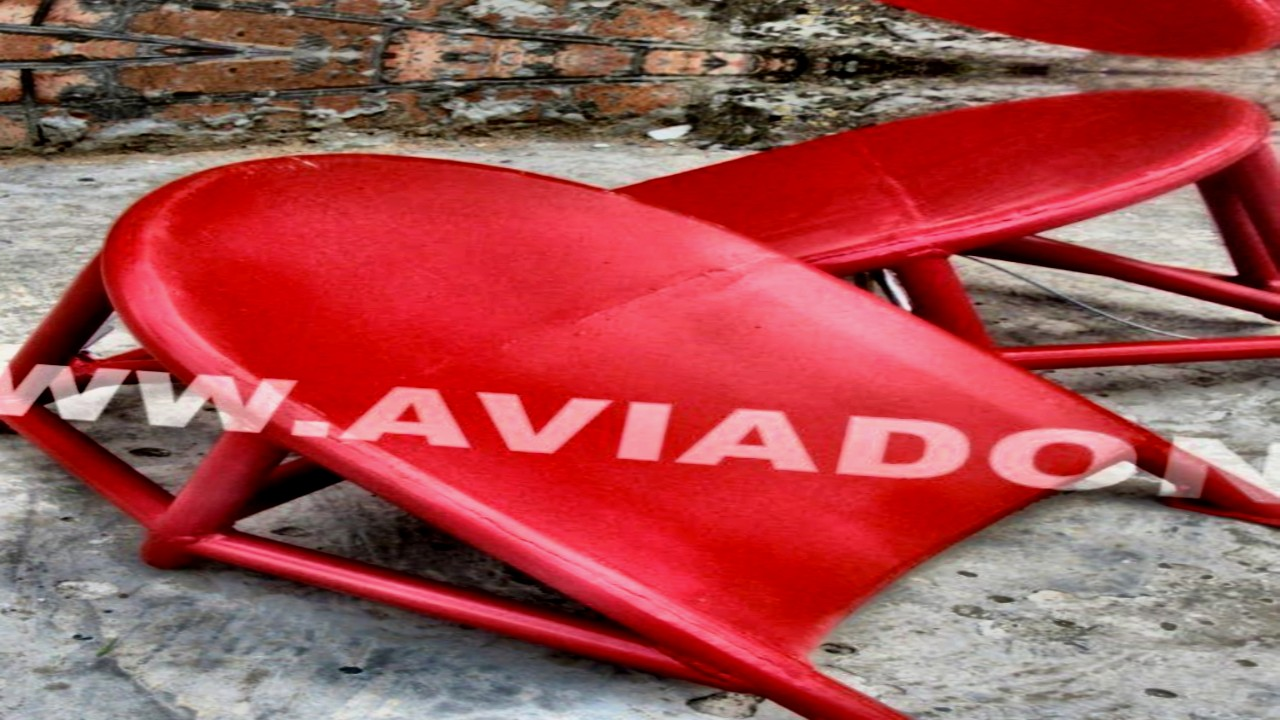chock: (0, 128, 1280, 720), (576, 60, 1280, 380), (645, 0, 1280, 80)
